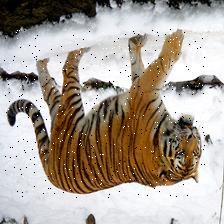tiger: (4, 29, 205, 198)
